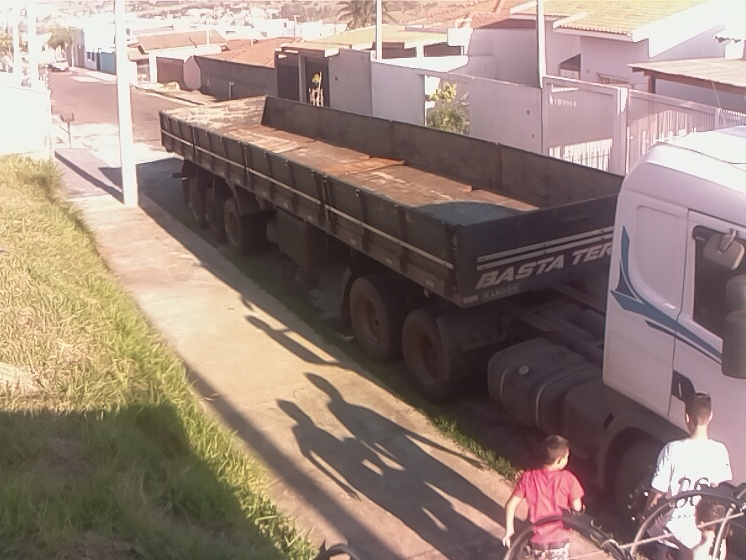person: (636, 393, 738, 560), (501, 433, 588, 560), (679, 497, 728, 560)
